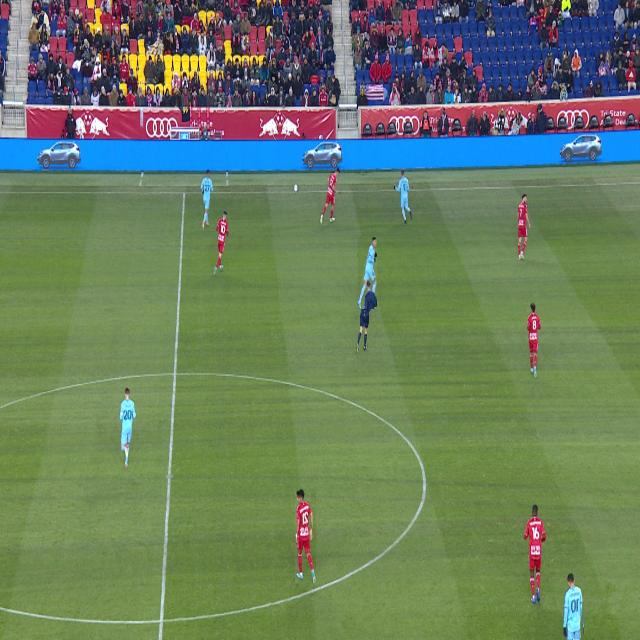football: (294, 185, 298, 192)
player: (524, 505, 546, 604), (295, 489, 316, 583), (358, 237, 377, 309), (120, 387, 136, 468), (564, 574, 583, 640), (320, 168, 340, 225), (527, 303, 541, 378), (214, 210, 229, 275), (394, 170, 412, 224), (518, 193, 531, 260), (200, 169, 213, 230)
referee: (357, 281, 371, 354)
